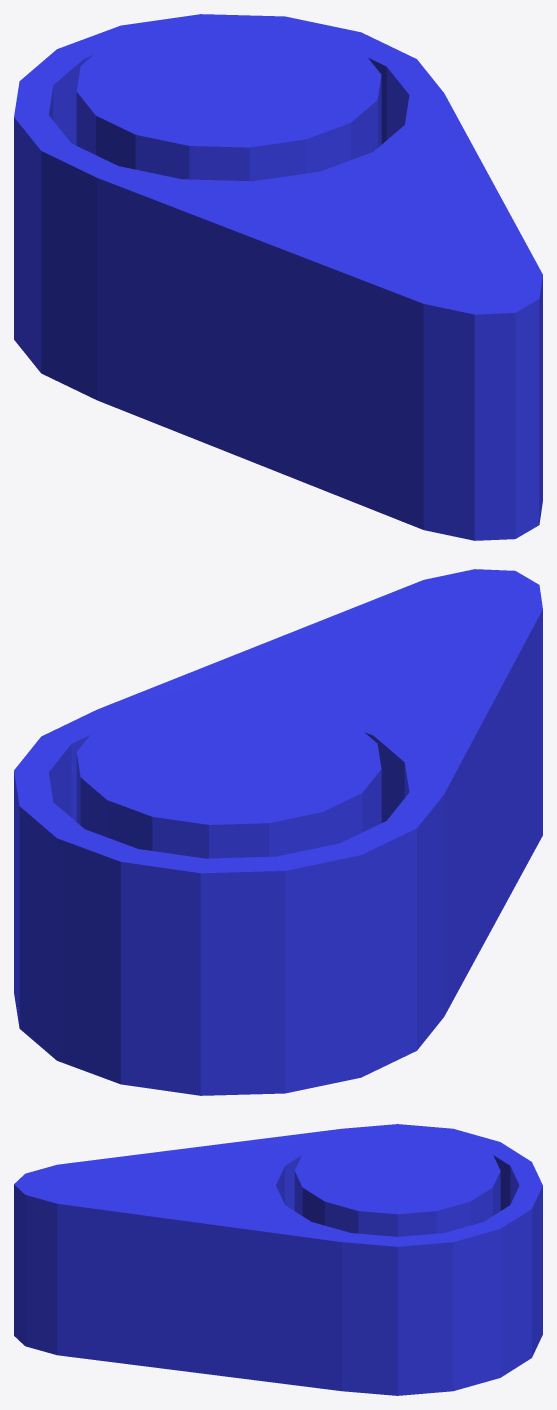
Rendered from LeverBase.fbx.
The picture shows the model from 3 angles, top to bottom: view 1: azimuth 30°, elevation 25°; view 2: azimuth 150°, elevation 25°; view 3: azimuth 270°, elevation 25°; orthographic projection. The views are drawn at different scales.
Parts seen in each view (by area): view 1: LeverBase; view 2: LeverBase; view 3: LeverBase.
Part boxes in pixels (x1=…): LeverBase: x1=14, y1=14, x2=542, y2=540; LeverBase: x1=14, y1=569, x2=542, y2=1095; LeverBase: x1=14, y1=1124, x2=542, y2=1395.
Size of the model in its own units: 39.13 by 24.5 by 71.22.
